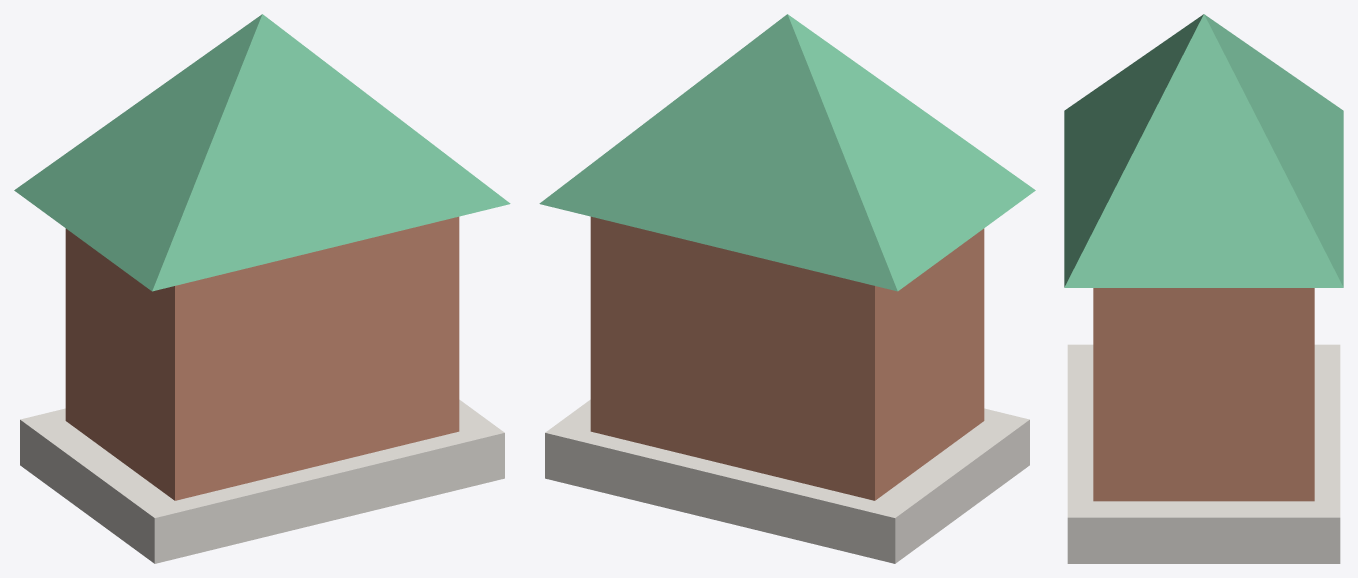
Rendered from 交泰殿.glb.
3 views of the same model, side by side, from view 1: azimuth 30°, elevation 25°; view 2: azimuth 150°, elevation 25°; view 3: azimuth 270°, elevation 25° (orthographic).
Parts seen in each view (by area): view 1: body, roof, plat; view 2: body, roof, plat; view 3: roof, body, plat.
Part boxes in pixels (box(x1,y1,x2,y2)): body: box(65, 216, 459, 500); roof: box(14, 14, 510, 291); plat: box(20, 399, 504, 563); body: box(590, 216, 984, 500); roof: box(539, 14, 1035, 291); plat: box(545, 399, 1029, 563); roof: box(1064, 14, 1343, 287); body: box(1093, 288, 1314, 501); plat: box(1067, 344, 1340, 563).
Bounding box in the file's own units: 2.46 × 3 × 1.64.
